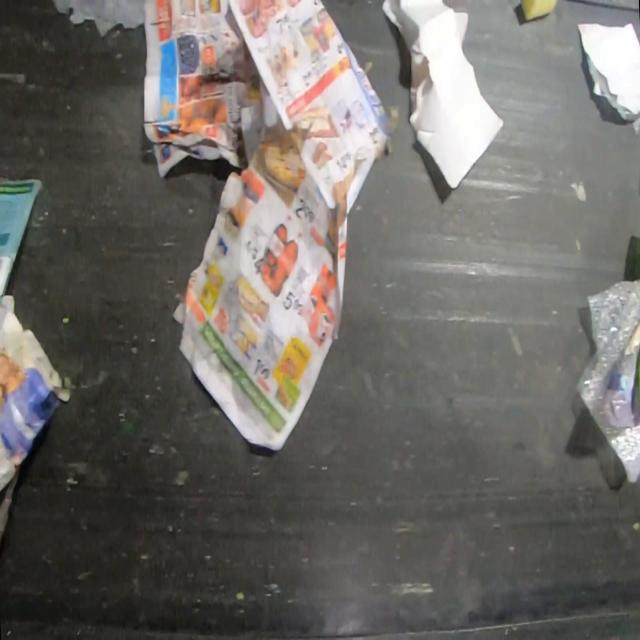soft_plastic: (574, 278, 640, 484), (0, 177, 46, 307), (0, 465, 21, 551)
